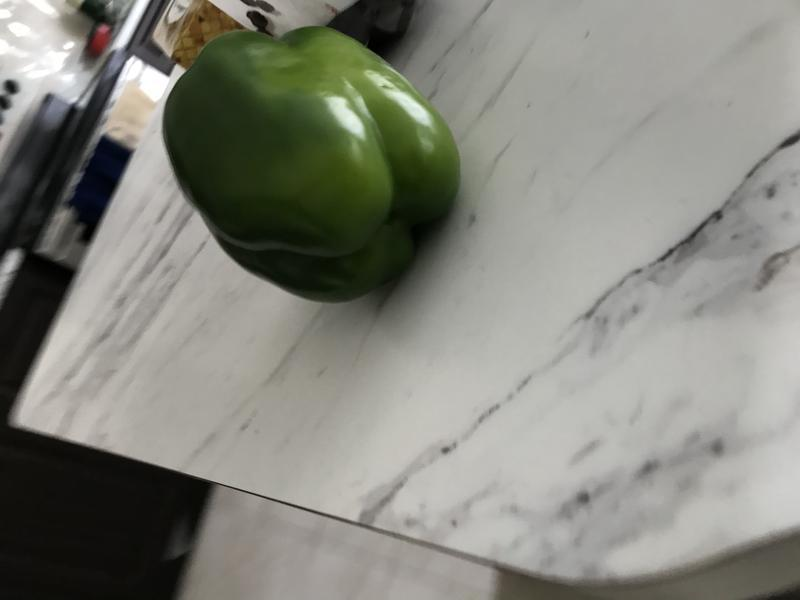green_pepper: (166, 19, 481, 323)
